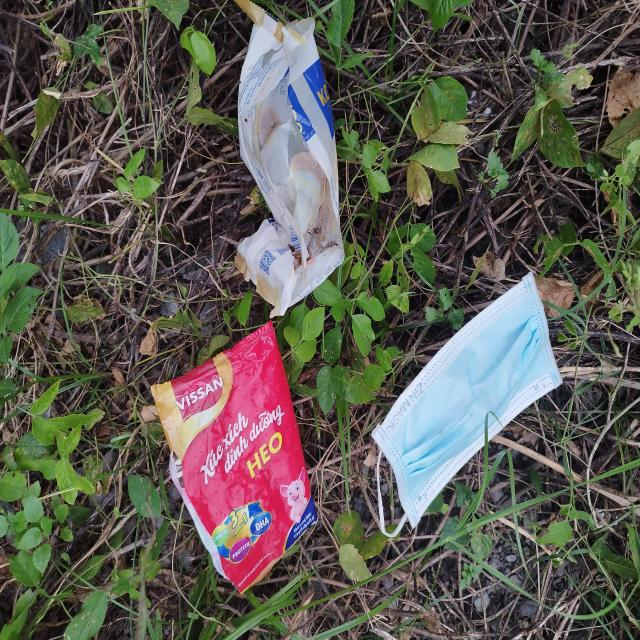mask: (370, 268, 565, 538)
packet: (234, 0, 347, 323)
snack package: (152, 320, 318, 593)
